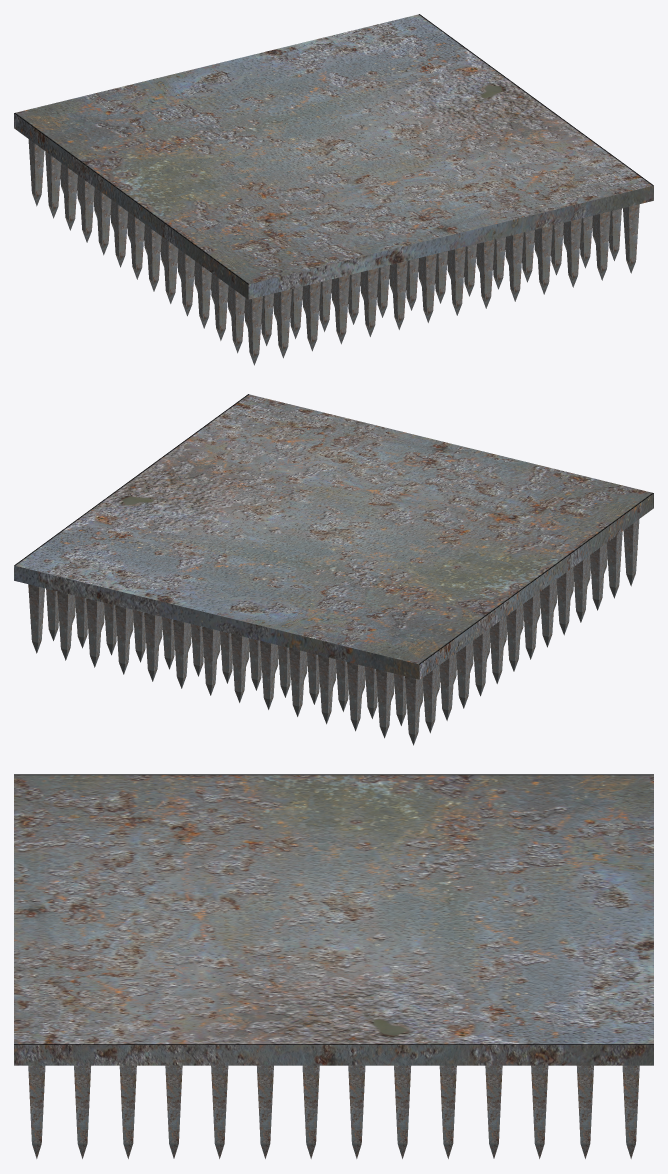
Rendered from AnimationPiques.glb.
The picture shows the model from 3 angles, top to bottom: view 1: azimuth 30°, elevation 25°; view 2: azimuth 150°, elevation 25°; view 3: azimuth 270°, elevation 25°; orthographic projection. The views are drawn at different scales.
Parts seen in each view (by area): view 1: Cube.136; view 2: Cube.136; view 3: Cube.136.
Boxes of the visible parts, x1=… form: Cube.136: x1=14, y1=14, x2=653, y2=365; Cube.136: x1=14, y1=394, x2=653, y2=745; Cube.136: x1=14, y1=774, x2=653, y2=1158.
Bounding box in the file's own units: 5.6 × 1.2 × 5.6.
1 material, 1 textured.
